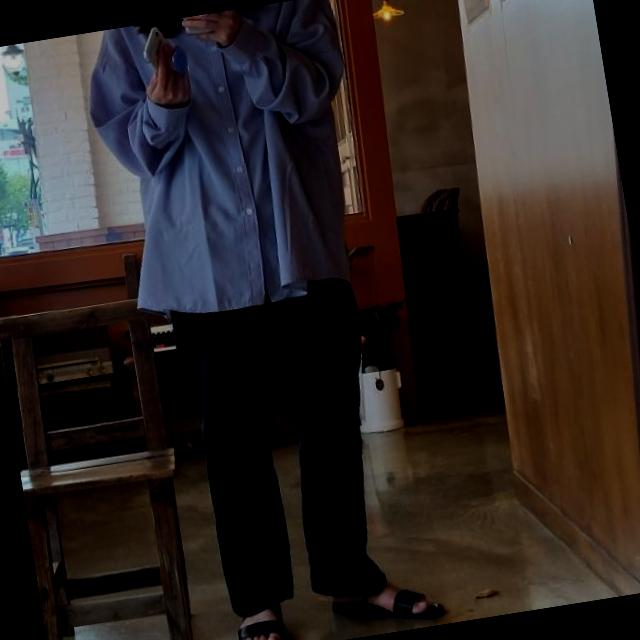shirt: (81, 0, 383, 325)
slacks: (176, 269, 408, 617)
